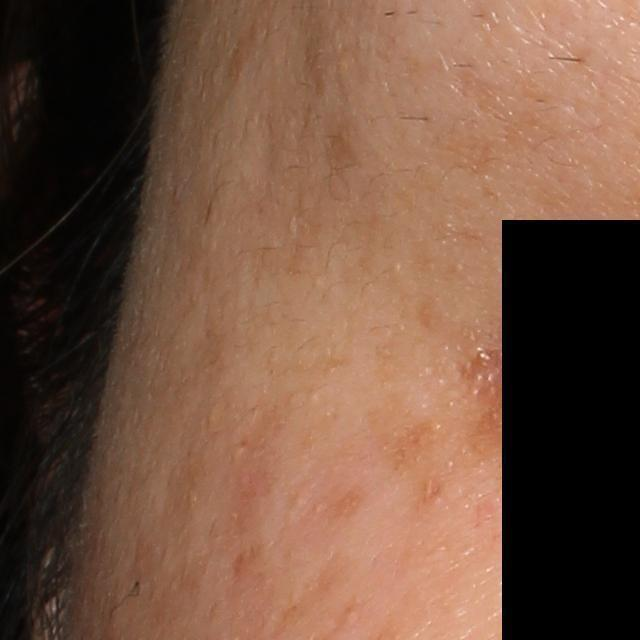melasma: (329, 485, 366, 526)
